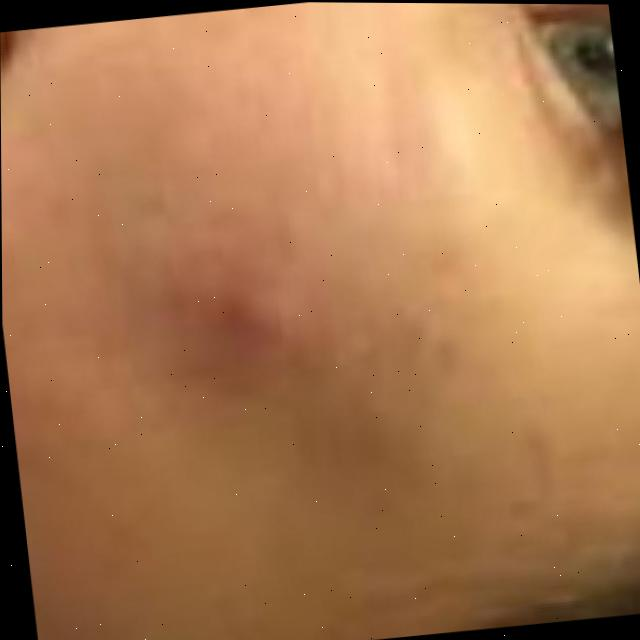Acne: (202, 269, 318, 400)
